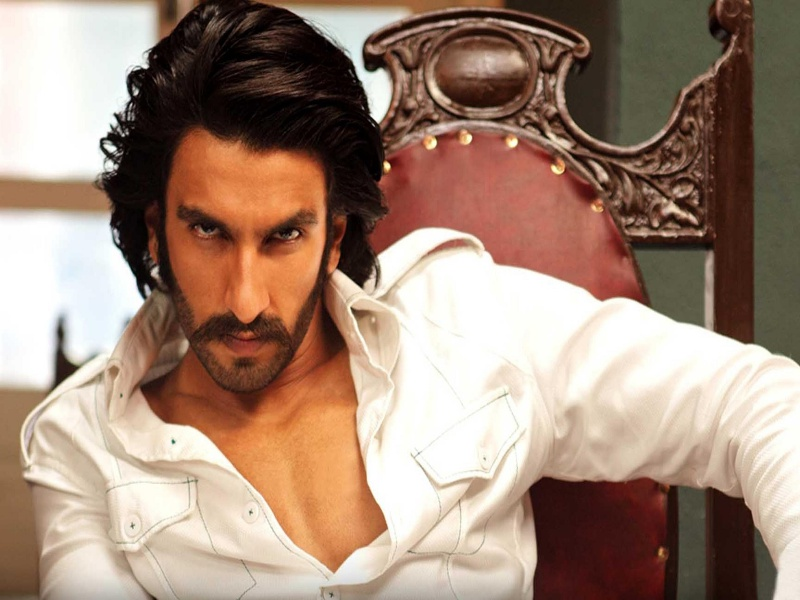TsisyArotava: (114, 81, 354, 404)
